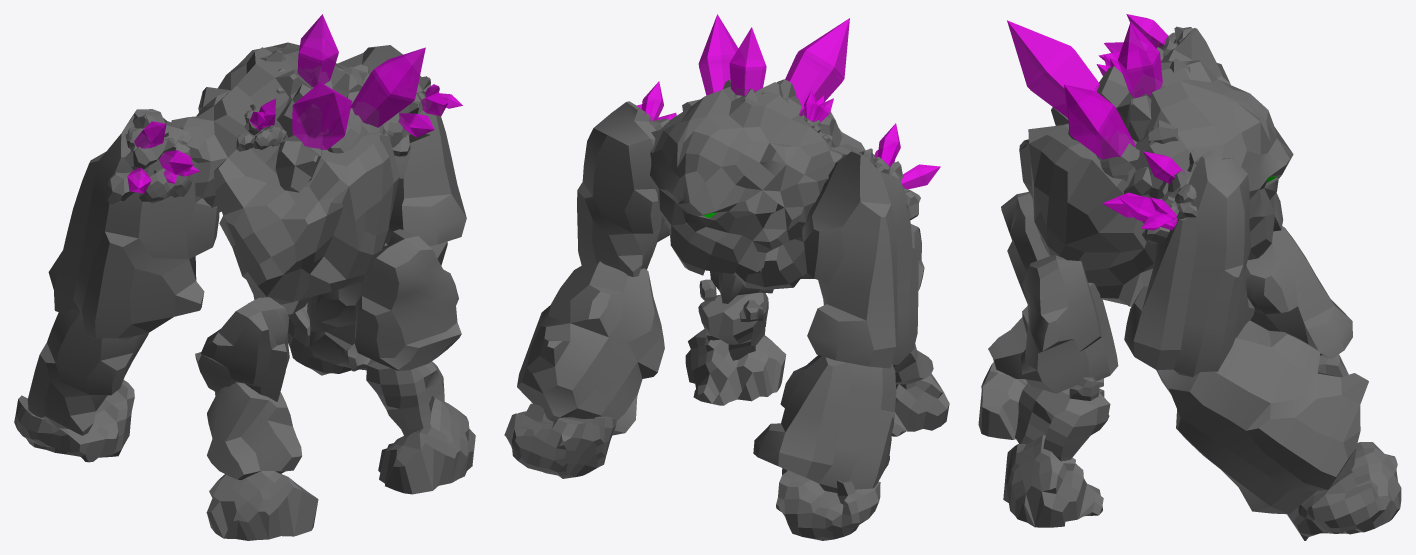
The model's file is Golem.fbx.
3 views of the same model, side by side, from view 1: azimuth 30°, elevation 25°; view 2: azimuth 150°, elevation 25°; view 3: azimuth 270°, elevation 25° (orthographic). The views are drawn at different scales.
Parts seen in each view (by area): view 1: polySurface110, polySurface98, pasted__polySurface3182, pasted__polySurface3193, pasted__polySurface686, pasted__polySurface3184, pasted__polySurface3181, polySurface105, polySurface106, polySurface107, polySurface93, pasted__polySurface3179 (+7 smaller); view 2: polySurface110, polySurface98, pasted__polySurface3179, pasted__polySurface686, pasted__polySurface3193, polySurface108, polySurface106, polySurface107, polySurface74, polySurface93, polySurface105, polySurface75 (+7 smaller); view 3: polySurface110, pasted__polySurface3179, pasted__polySurface3193, pasted__polySurface3182, pasted__polySurface686, polySurface108, polySurface106, polySurface93, polySurface74, polySurface75, polySurface105, pasted__polySurface3181 (+8 smaller).
Boxes of the visible parts, <box> form: polySurface110: <box>171,42,399,316</box>; polySurface98: <box>48,109,219,339</box>; pasted__polySurface3182: <box>354,229,461,370</box>; pasted__polySurface3193: <box>337,45,466,245</box>; pasted__polySurface686: <box>27,309,148,435</box>; pasted__polySurface3184: <box>207,382,302,480</box>; pasted__polySurface3181: <box>195,297,289,401</box>; polySurface105: <box>206,471,318,540</box>; polySurface106: <box>378,395,475,494</box>; polySurface107: <box>14,380,134,462</box>; polySurface93: <box>366,360,444,437</box>; pasted__polySurface3179: <box>307,241,447,370</box>; polySurface110: <box>650,79,865,289</box>; polySurface98: <box>802,148,920,368</box>; pasted__polySurface3179: <box>517,261,664,435</box>; pasted__polySurface686: <box>753,355,896,493</box>; pasted__polySurface3193: <box>577,101,669,276</box>; polySurface108: <box>504,403,616,478</box>; polySurface106: <box>685,329,786,405</box>; polySurface107: <box>776,468,880,540</box>; polySurface74: <box>785,18,849,116</box>; polySurface93: <box>698,292,768,360</box>; polySurface105: <box>891,373,949,436</box>; polySurface75: <box>698,14,738,95</box>; polySurface110: <box>1019,58,1293,306</box>; pasted__polySurface3179: <box>1156,320,1368,514</box>; pasted__polySurface3193: <box>1124,150,1254,377</box>; pasted__polySurface3182: <box>1021,255,1118,393</box>; pasted__polySurface686: <box>1244,226,1352,358</box>; polySurface108: <box>1287,442,1401,540</box>; polySurface106: <box>1003,435,1103,527</box>; polySurface93: <box>1015,384,1110,461</box>; polySurface74: <box>1007,20,1099,117</box>; polySurface75: <box>1064,84,1135,159</box>; polySurface105: <box>978,362,1027,439</box>; pasted__polySurface3181: <box>1001,191,1049,303</box>.
Size of the model in its own units: 16.61 by 18.73 by 15.2.
